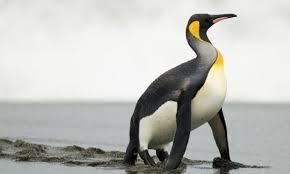king: (122, 7, 247, 174)
